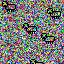sheep: (23, 23, 38, 35), (2, 1, 16, 12), (47, 8, 61, 19), (41, 34, 55, 44)
